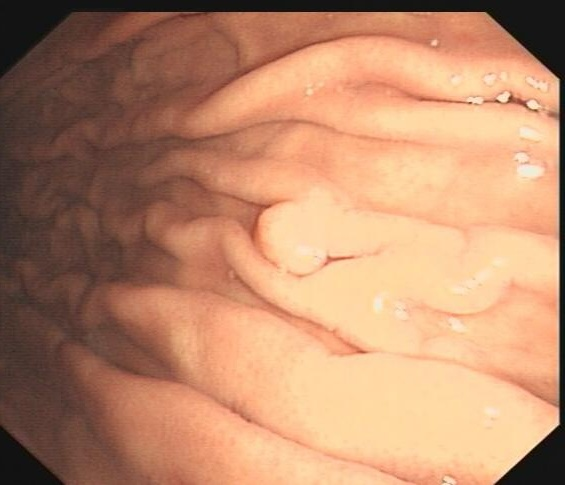Polyp: (255, 199, 330, 276)
